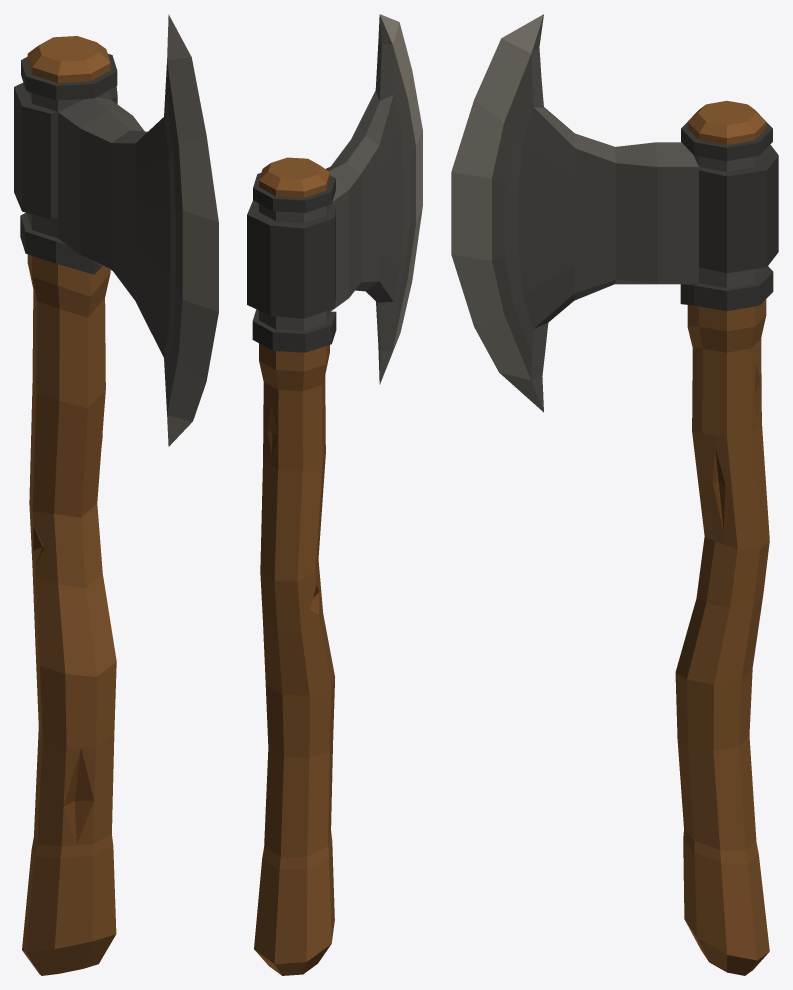
File: Hatchet.fbx
The picture shows the model from 3 angles, left to right: view 1: azimuth 30°, elevation 25°; view 2: azimuth 150°, elevation 25°; view 3: azimuth 270°, elevation 25°; orthographic projection. The views are drawn at different scales.
Parts seen in each view (by area): view 1: Hatchet; view 2: Hatchet; view 3: Hatchet.
Part boxes in pixels (x1,y1,x2,y2): Hatchet: (14,14,218,975); Hatchet: (247,14,422,975); Hatchet: (451,14,778,975).
Bounding box in the file's own units: 5.24 × 55.08 × 17.09.
